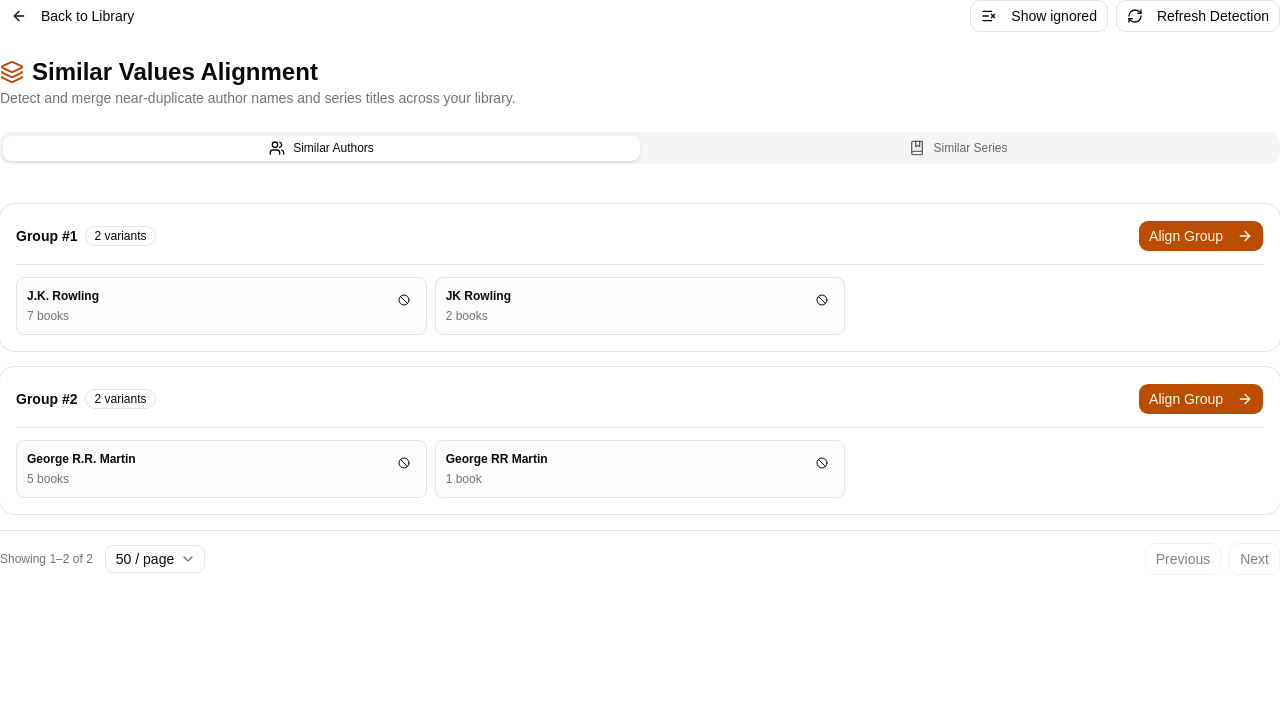
SimilarValues › Show ignored opens the ignored-pairs dialog for the active tab
The width and height of the screenshot is (1280, 720).
Click the button "Show ignored". click: coordinates (1039, 16)
box: [970,0,1108,32]
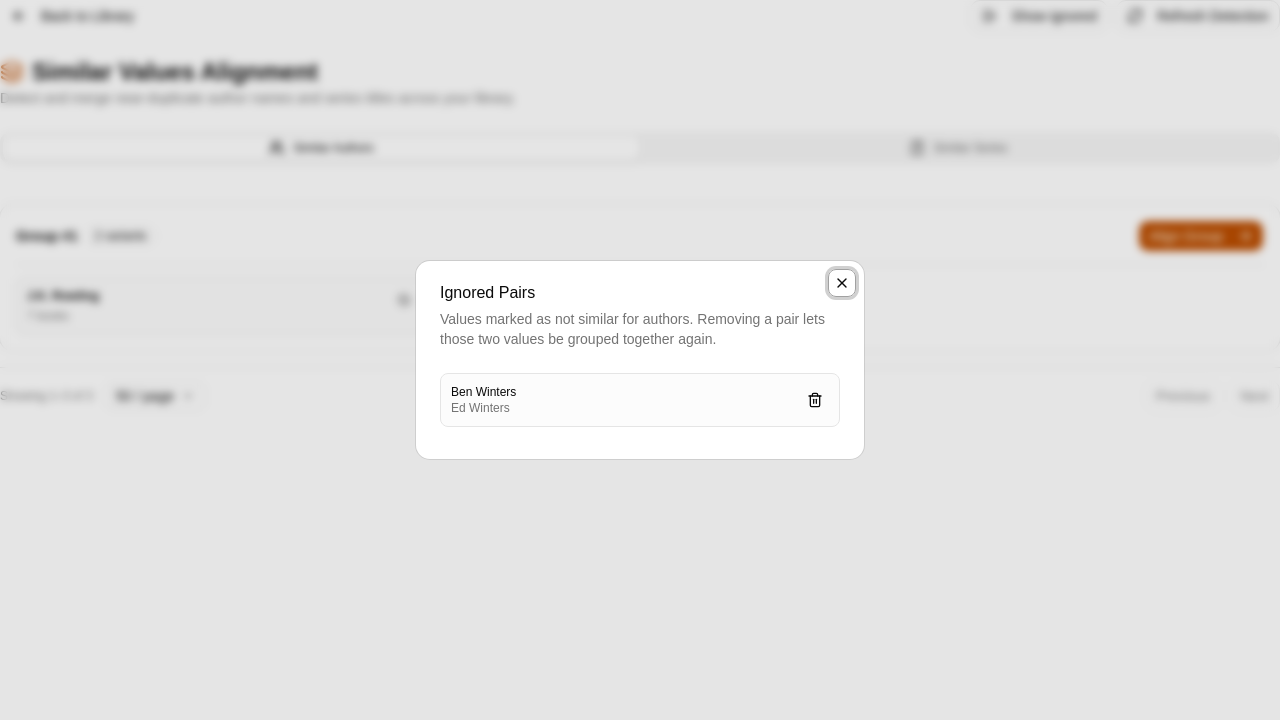
Result: the text "Ben Winters" is shown at [451,384,516,400]
Result: the text "Ed Winters" is shown at [451,400,516,416]
